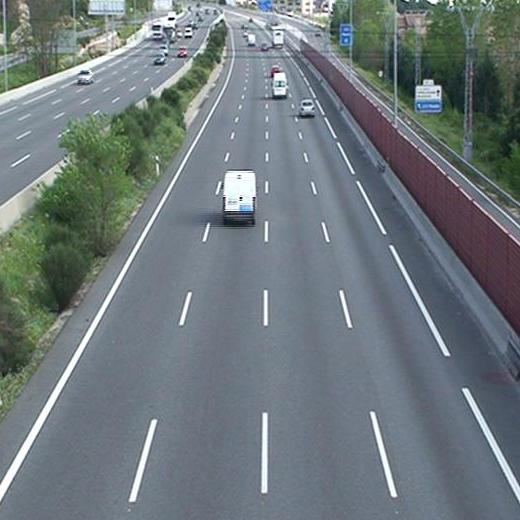car: (299, 99, 317, 117), (271, 61, 283, 72), (260, 41, 269, 52)
truck: (271, 29, 284, 49)
van: (221, 171, 258, 224), (271, 71, 288, 98), (247, 33, 257, 46)
